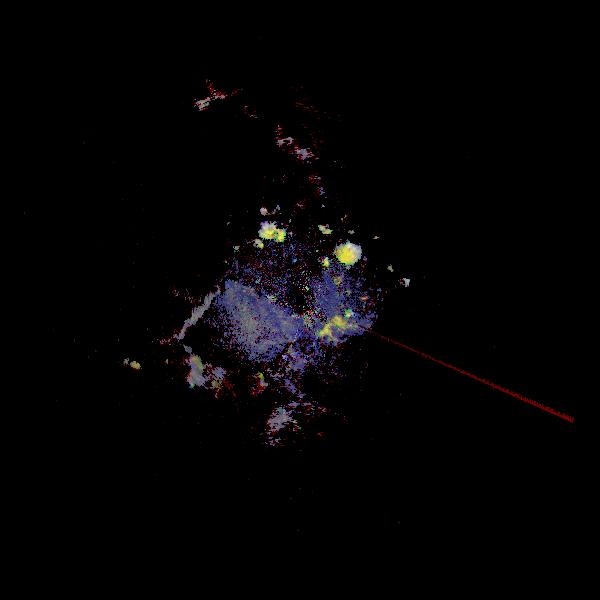roost: (106, 355, 148, 397), (177, 356, 207, 386)
